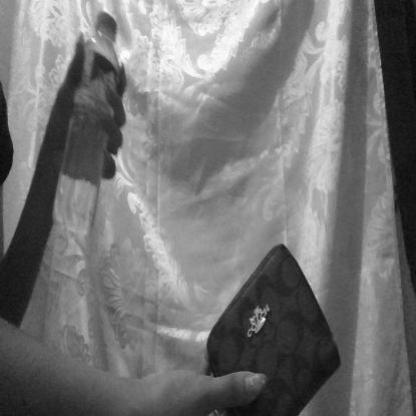Plastic Bottle: (43, 1, 123, 266)
